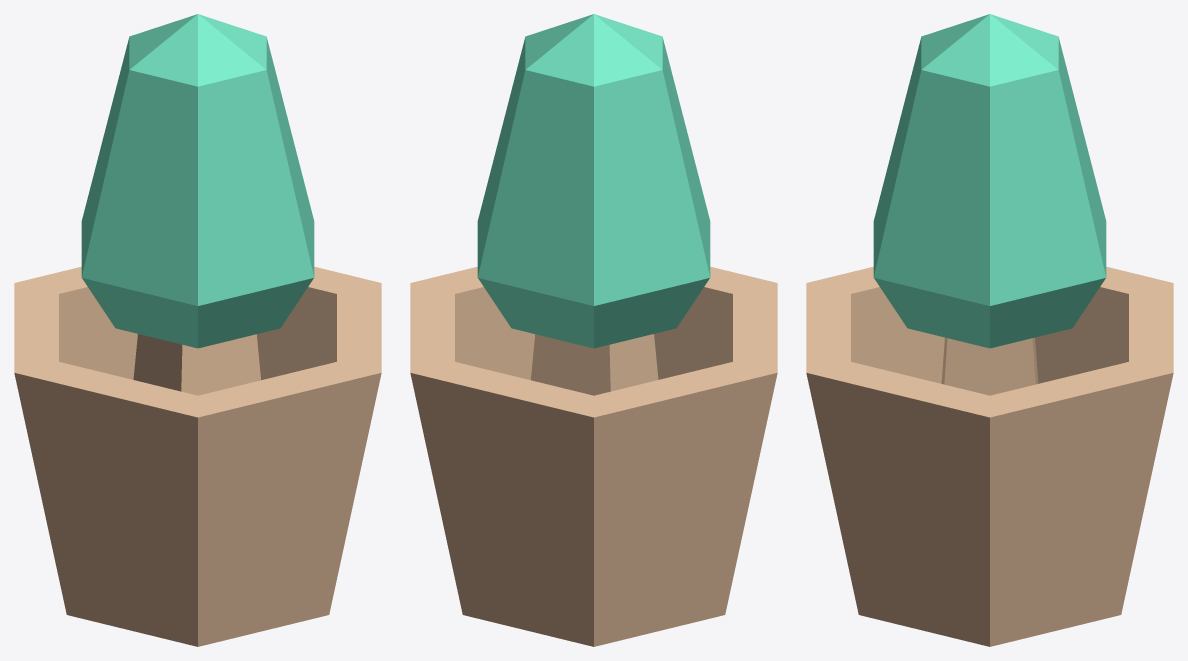
The model's file is plantSmall3.glb.
The picture shows the model from 3 angles, left to right: view 1: azimuth 30°, elevation 25°; view 2: azimuth 150°, elevation 25°; view 3: azimuth 270°, elevation 25°; orthographic projection.
Visible parts, largest first — view 1: plantSmall3(Clone); view 2: plantSmall3(Clone); view 3: plantSmall3(Clone).
Part boxes in pixels (box(x1,y1,x2,y2)): plantSmall3(Clone): box(14, 14, 381, 646); plantSmall3(Clone): box(410, 14, 777, 646); plantSmall3(Clone): box(806, 14, 1173, 646).
Bounding box in the file's own units: 0.1989 × 0.2943 × 0.1723.
Materials: 2 (2 with a texture image).
